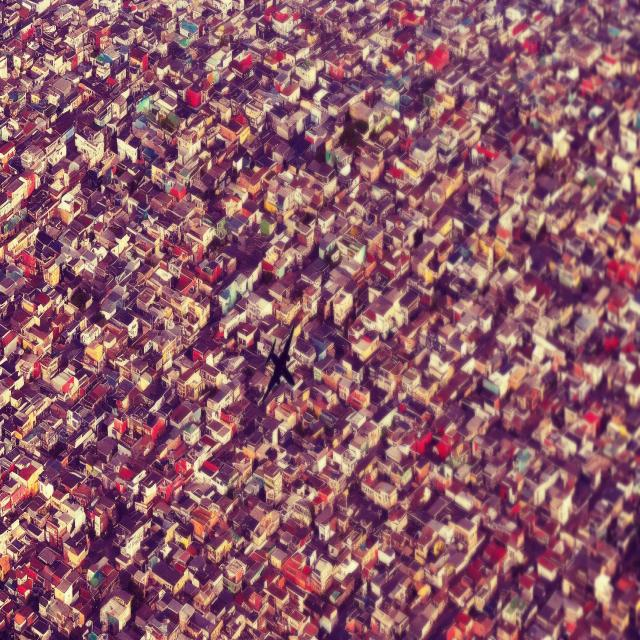airplane: (261, 326, 296, 401)
